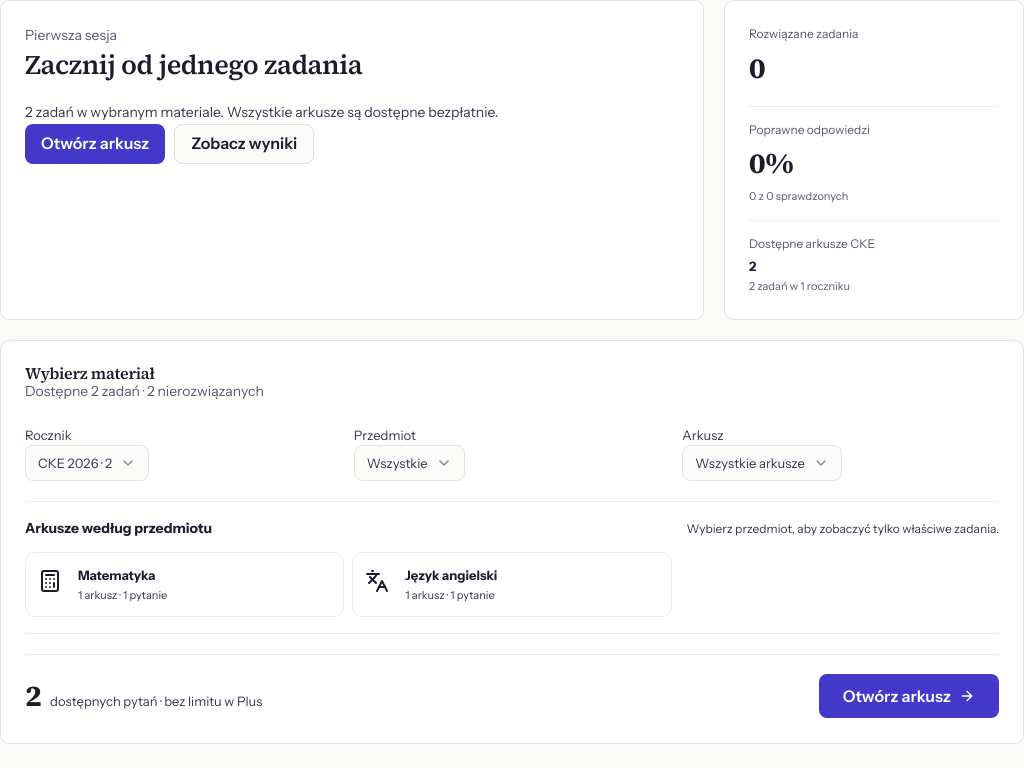
Test: StudentPractice focus mode › preserves a subject chosen from the material breakdown when focus mode remounts
Click the button "Matematyka 1 arkusz · 1 pytanie" at (117, 575), box [25,552,344,617]
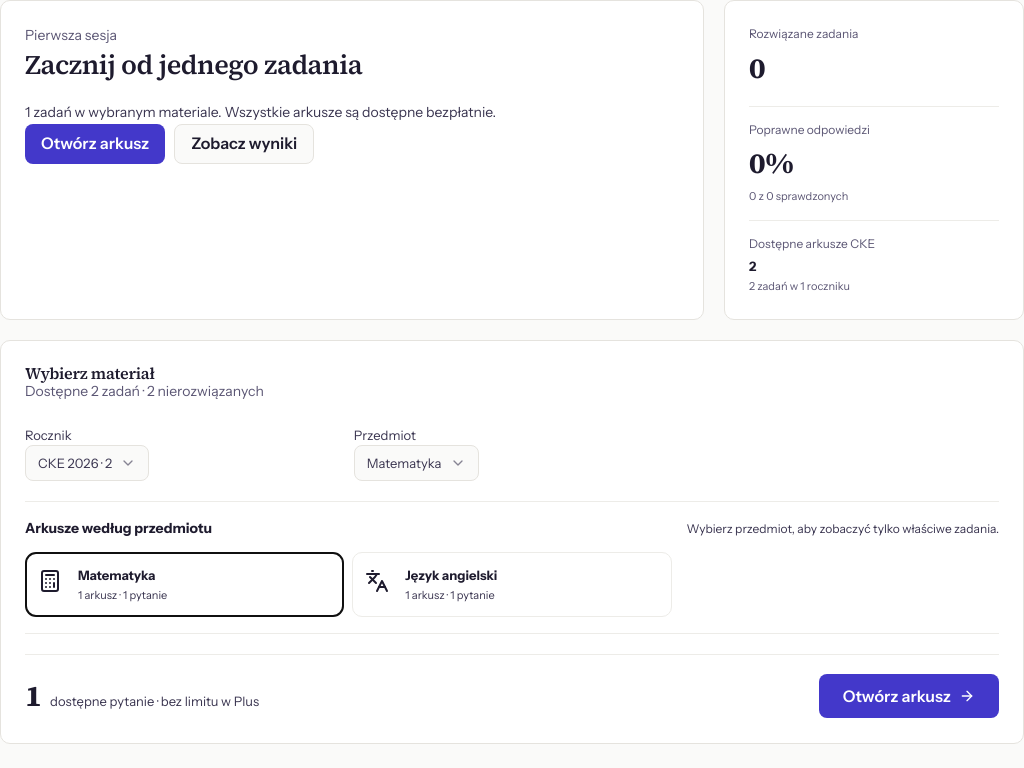
Expected: the element named "Rozbicie wybranego materiału" is shown, [0,340,1023,744]
Click the button "Otwórz arkusz" in the row of "· bez limitu w Plus" at (909, 696), box [819,674,999,718]
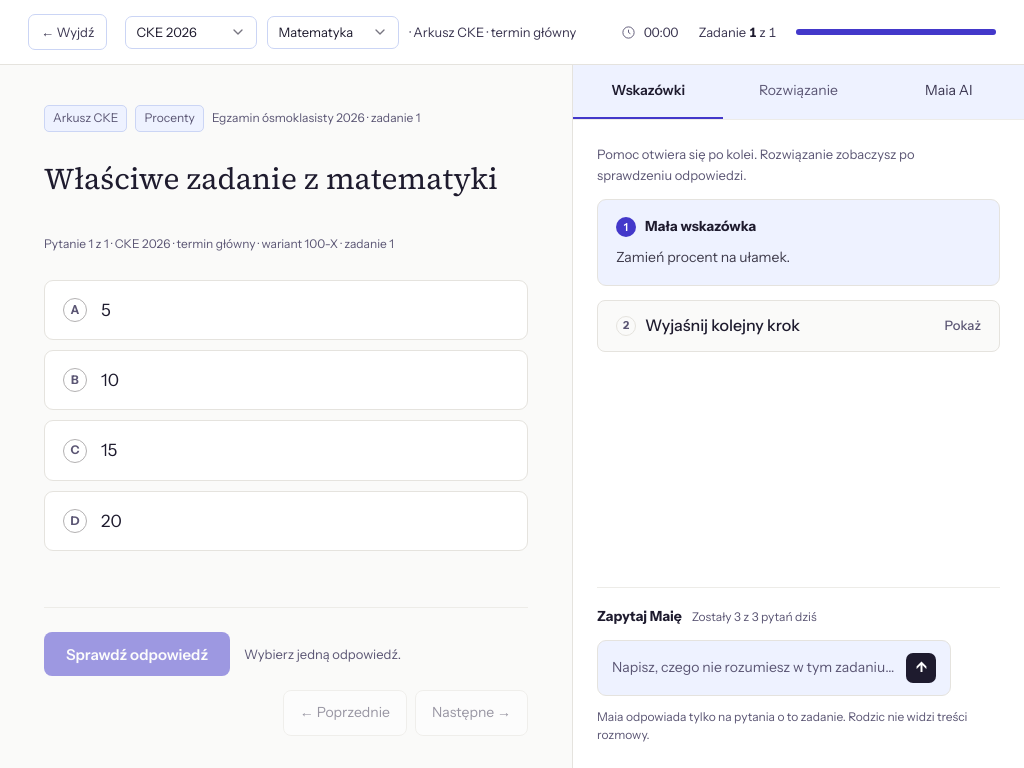
Expected: the dropdown named "Wybierz przedmiot" reads "Matematyka", [267,16,399,49]
Expected: the heading "Właściwe zadanie z matematyki" is shown, [44,158,528,199]
